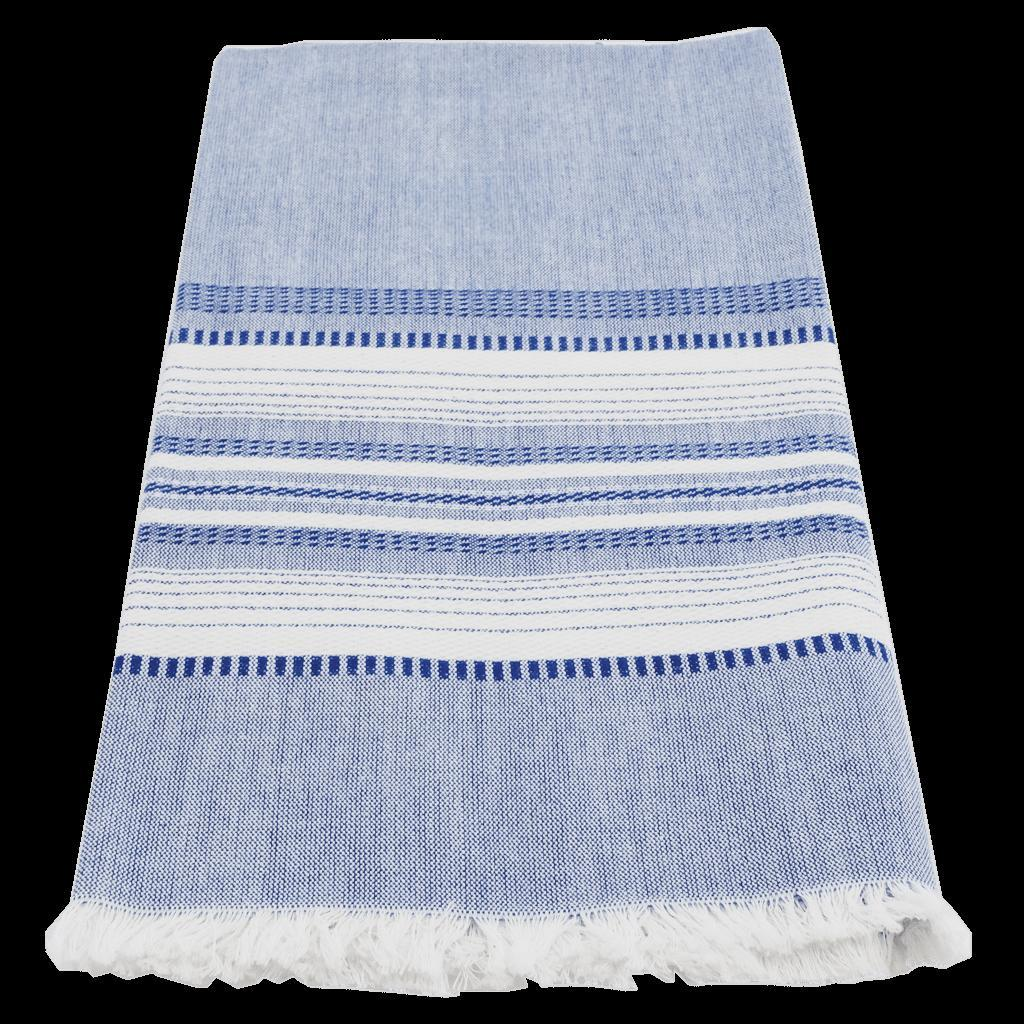towel: (45, 12, 972, 1020)
